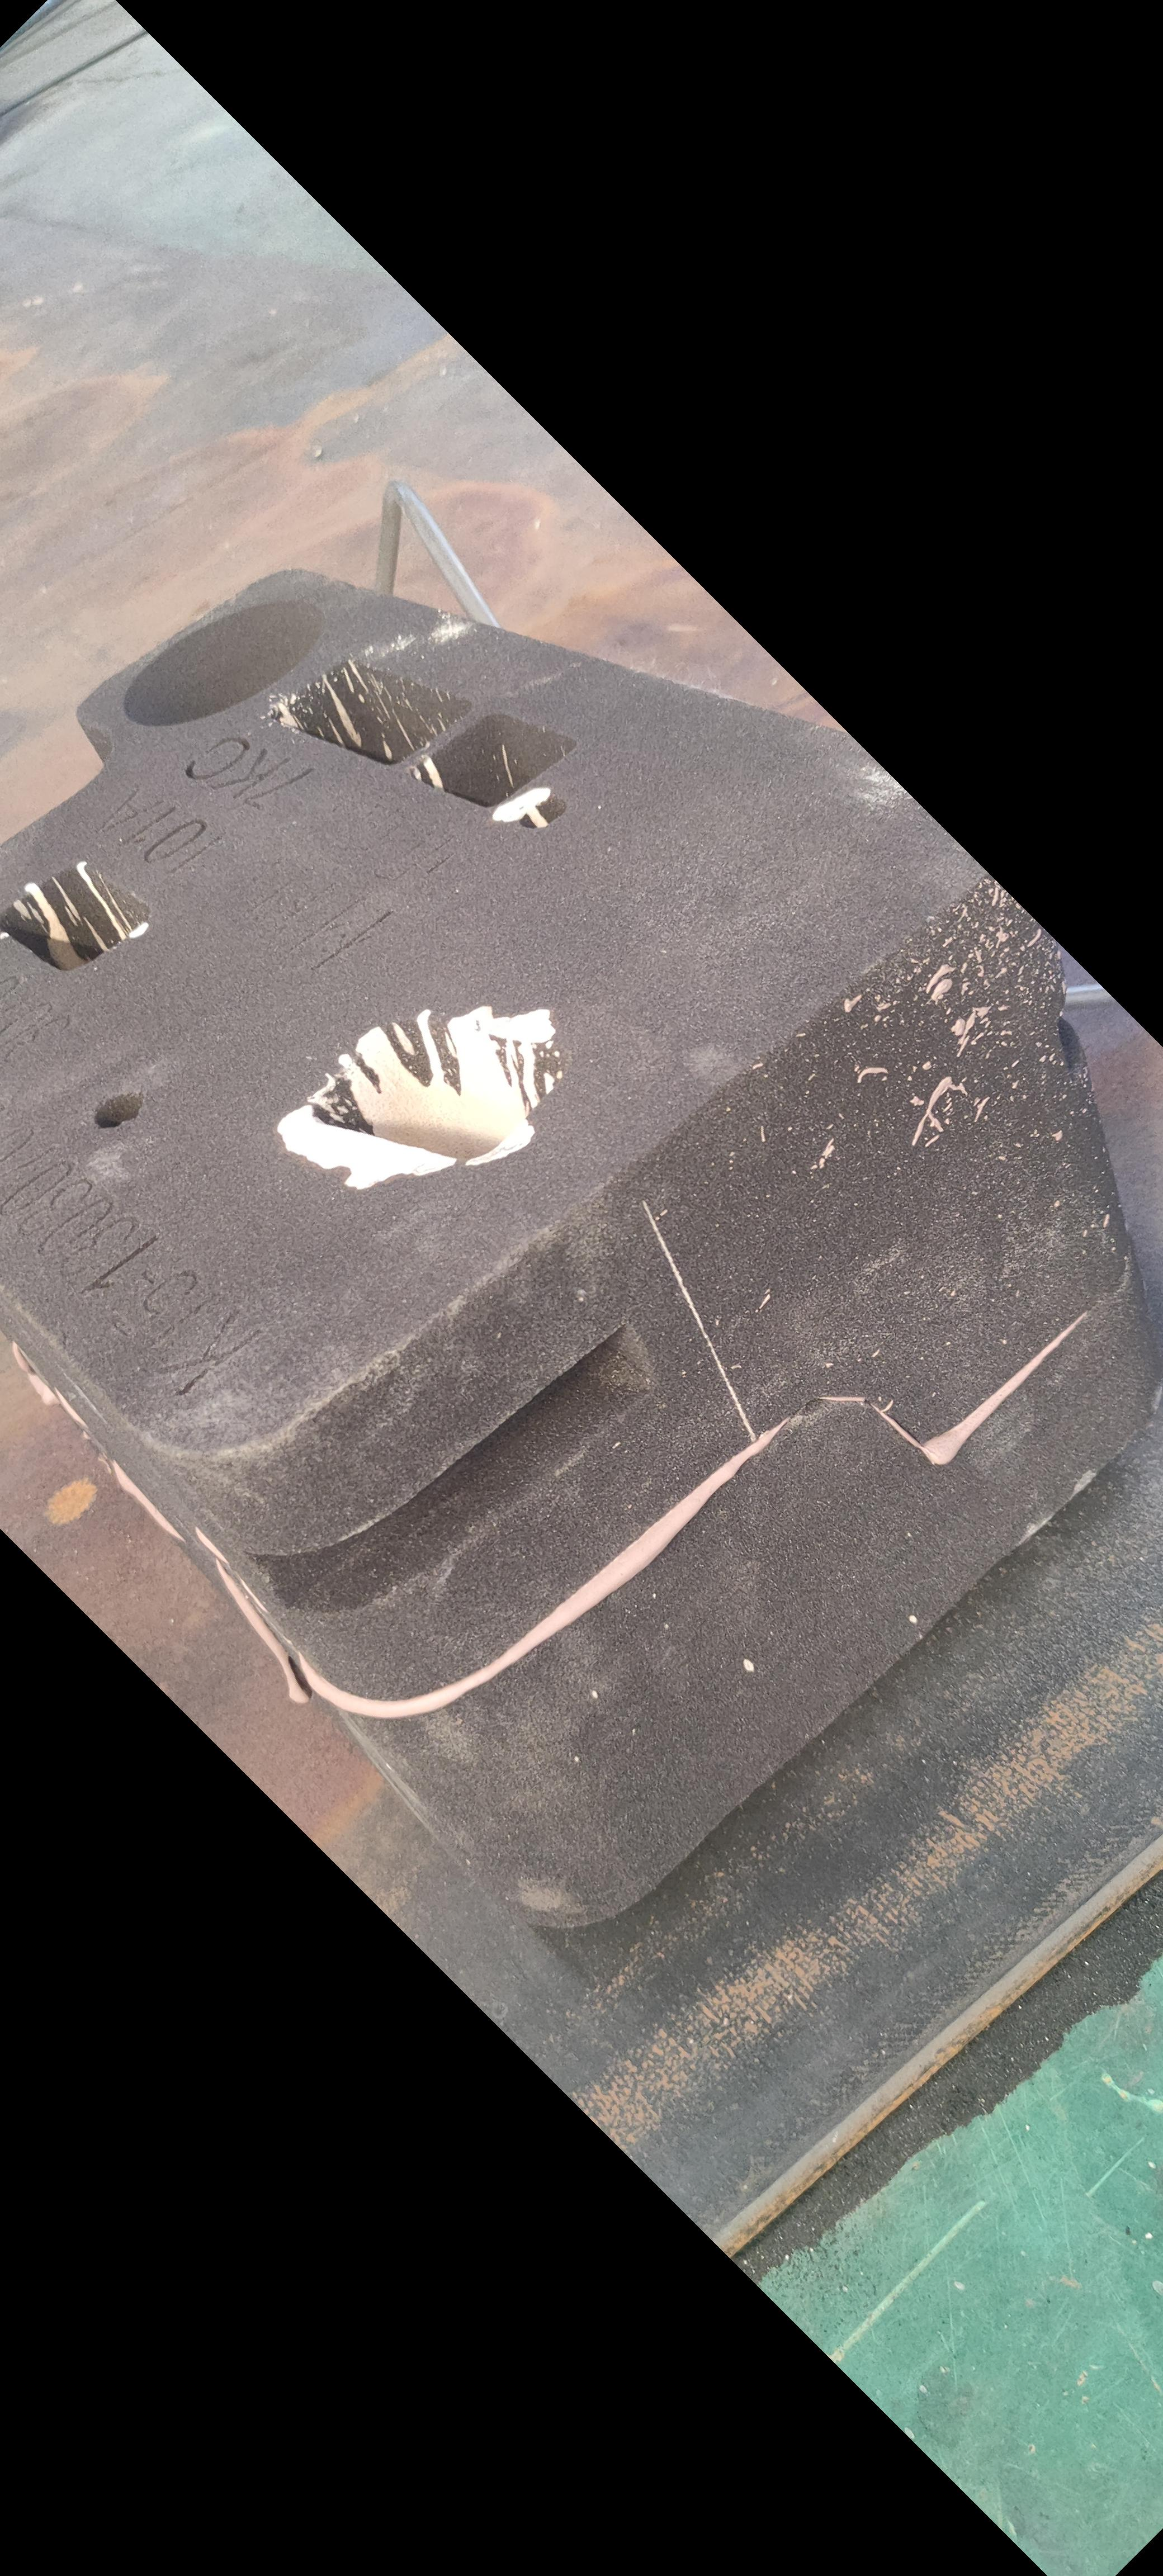pouring hole: (123, 596, 325, 728)
